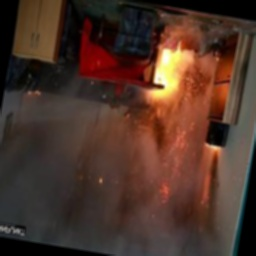fire: (136, 33, 201, 117)
